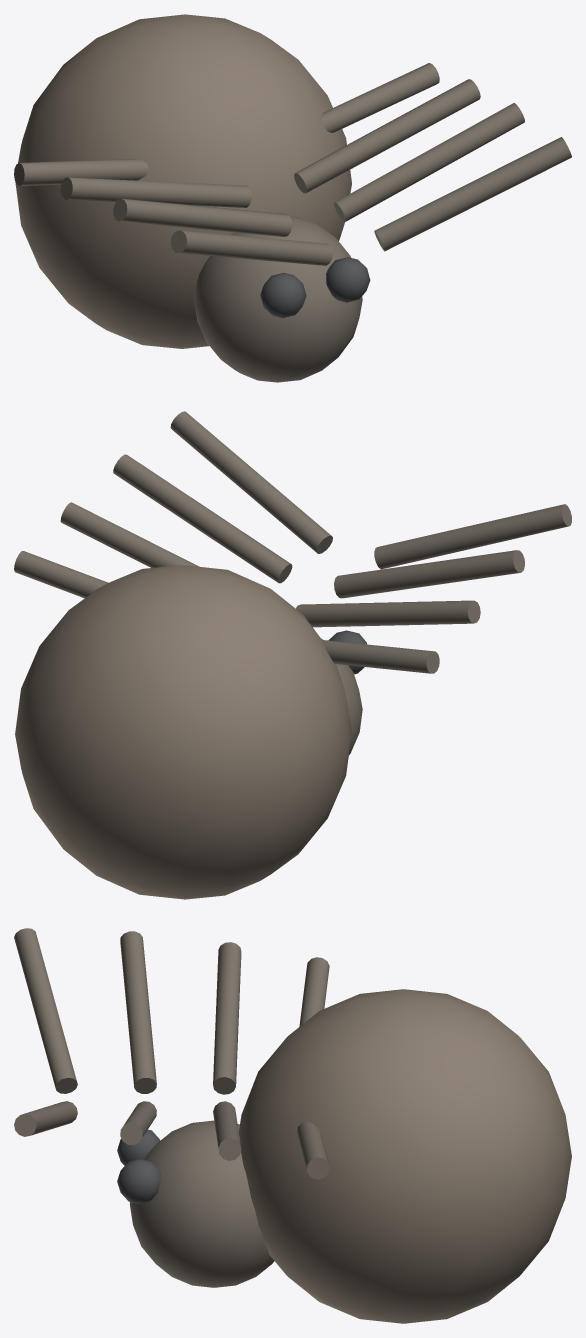
File: tylorida-ventralis.glb
3 views of the same model, one above another, from view 1: azimuth 30°, elevation 25°; view 2: azimuth 150°, elevation 25°; view 3: azimuth 270°, elevation 25° (orthographic).
Visible parts, largest first — view 1: abdomen, cephalothorax, leg01, leg21, leg11, leg1-1, leg2-1, leg0-1, leg31, leg3-1, eye-1, eye1; view 2: abdomen, leg11, leg0-1, leg01, leg1-1, leg2-1, leg21, leg3-1, leg31, cephalothorax; view 3: abdomen, cephalothorax, leg0-1, leg1-1, leg2-1, eye1, leg01, leg3-1, leg31, leg21, leg11, eye-1.
Part boxes in pixels (bbox=[...]): abdomen: bbox=[15, 14, 351, 348]; cephalothorax: bbox=[194, 216, 362, 382]; leg01: bbox=[374, 137, 571, 251]; leg21: bbox=[294, 79, 480, 193]; leg11: bbox=[334, 103, 524, 221]; leg1-1: bbox=[113, 198, 292, 236]; leg2-1: bbox=[60, 177, 251, 207]; leg0-1: bbox=[170, 230, 332, 265]; leg31: bbox=[321, 63, 439, 132]; leg3-1: bbox=[14, 158, 148, 185]; eye-1: bbox=[260, 272, 306, 317]; eye1: bbox=[326, 257, 370, 302]; abdomen: bbox=[15, 565, 351, 899]; leg11: bbox=[113, 454, 292, 583]; leg0-1: bbox=[374, 504, 571, 569]; leg01: bbox=[170, 411, 332, 553]; leg1-1: bbox=[334, 550, 524, 598]; leg2-1: bbox=[296, 600, 480, 627]; leg21: bbox=[60, 502, 199, 567]; leg3-1: bbox=[321, 640, 439, 673]; leg31: bbox=[14, 551, 108, 598]; cephalothorax: bbox=[321, 638, 362, 754]; abdomen: bbox=[238, 989, 571, 1323]; cephalothorax: bbox=[129, 1120, 274, 1287]; leg0-1: bbox=[14, 928, 77, 1093]; leg1-1: bbox=[120, 931, 156, 1093]; leg2-1: bbox=[213, 942, 241, 1094]; eye1: bbox=[117, 1158, 160, 1204]; leg01: bbox=[14, 1101, 77, 1136]; leg3-1: bbox=[299, 957, 329, 1026]; leg31: bbox=[297, 1121, 329, 1179]; leg21: bbox=[213, 1101, 241, 1160]; leg11: bbox=[120, 1101, 156, 1145]; eye-1: bbox=[117, 1129, 160, 1165].
Size of the model in its own units: 0.4574 by 0.32 by 0.5299.
